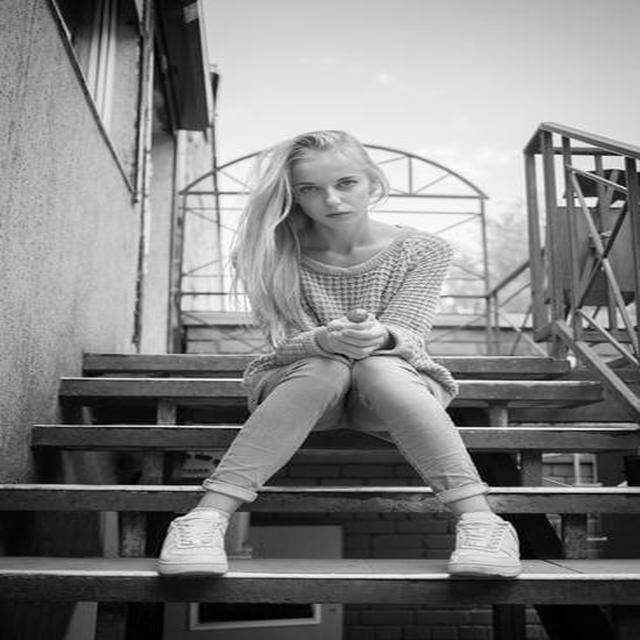Sadness: (290, 156, 366, 227)
